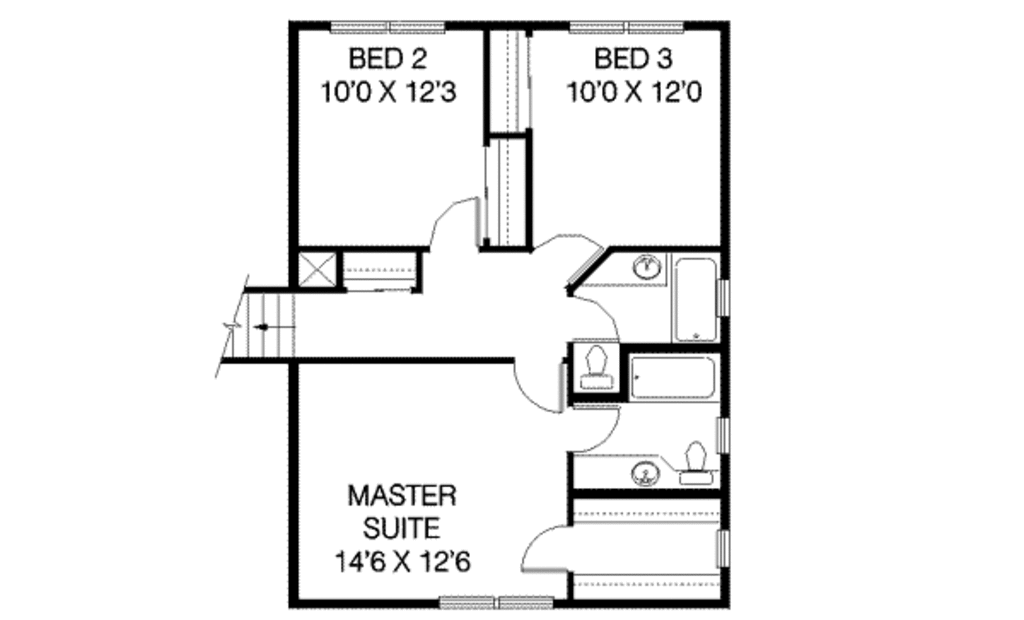door: (420, 191, 490, 250), (508, 348, 572, 412), (532, 220, 593, 287), (562, 289, 630, 343), (554, 403, 619, 451), (515, 526, 577, 575)
large_sink: (575, 345, 621, 396), (679, 439, 716, 487)
small_sink: (613, 240, 659, 286), (619, 456, 668, 487)
stairs: (208, 287, 341, 372)
tub: (619, 350, 724, 406), (669, 255, 715, 345)
window: (560, 14, 683, 39), (325, 15, 449, 34), (430, 595, 555, 609), (711, 413, 735, 454), (710, 530, 731, 567), (717, 278, 731, 322)
